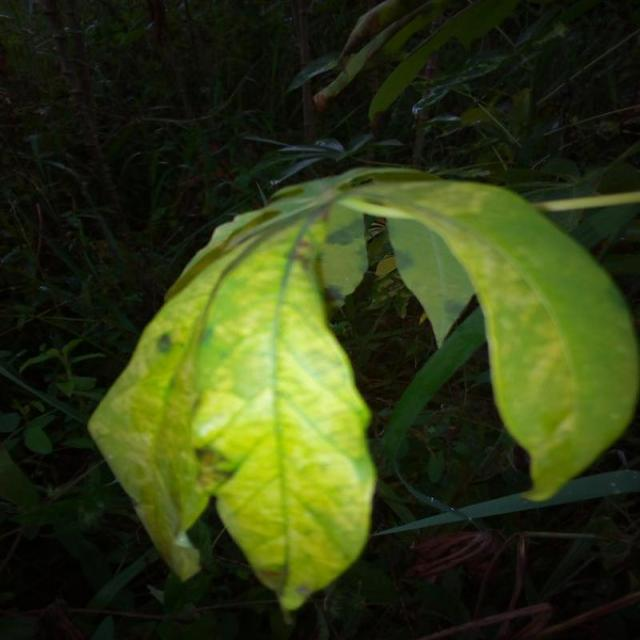cassava leaf: (87, 165, 638, 612)
